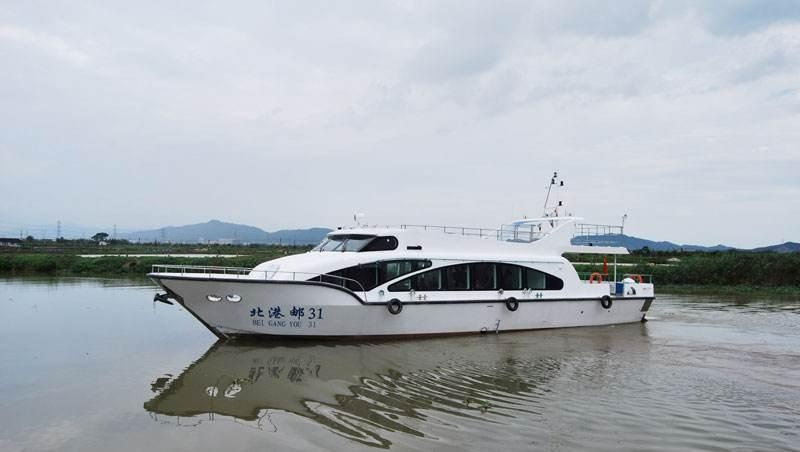yacht: (147, 192, 661, 347)
